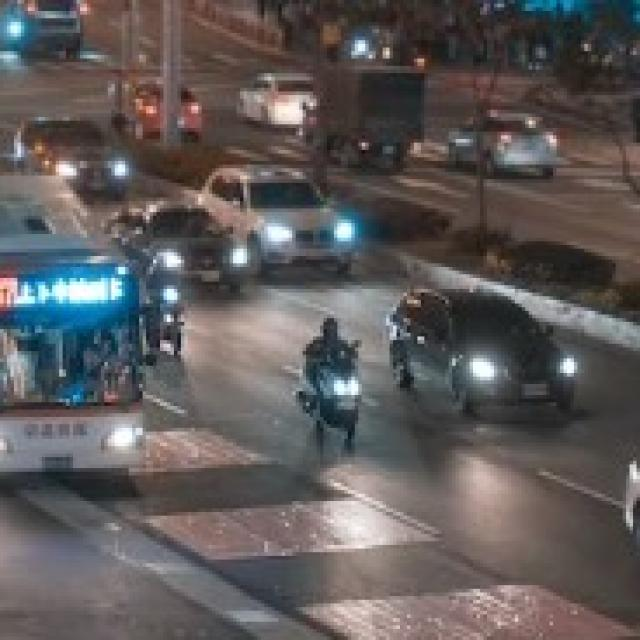bus: (0, 168, 150, 483)
car: (385, 281, 579, 422), (196, 156, 358, 283), (105, 192, 248, 300), (13, 108, 129, 200), (444, 106, 559, 185), (123, 71, 206, 148), (0, 0, 83, 62), (237, 67, 317, 129)
motorbike: (295, 320, 363, 440), (143, 268, 186, 364)
van: (298, 60, 424, 171)
